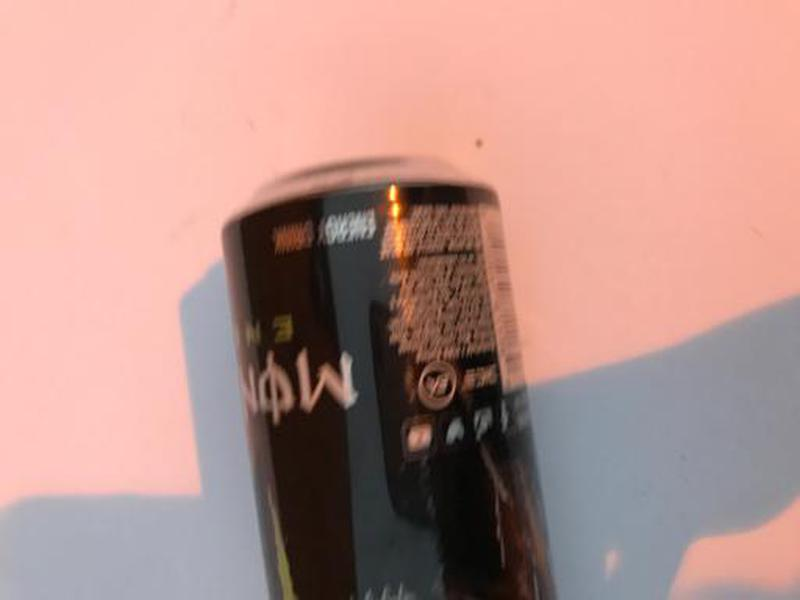can: (210, 148, 578, 600)
